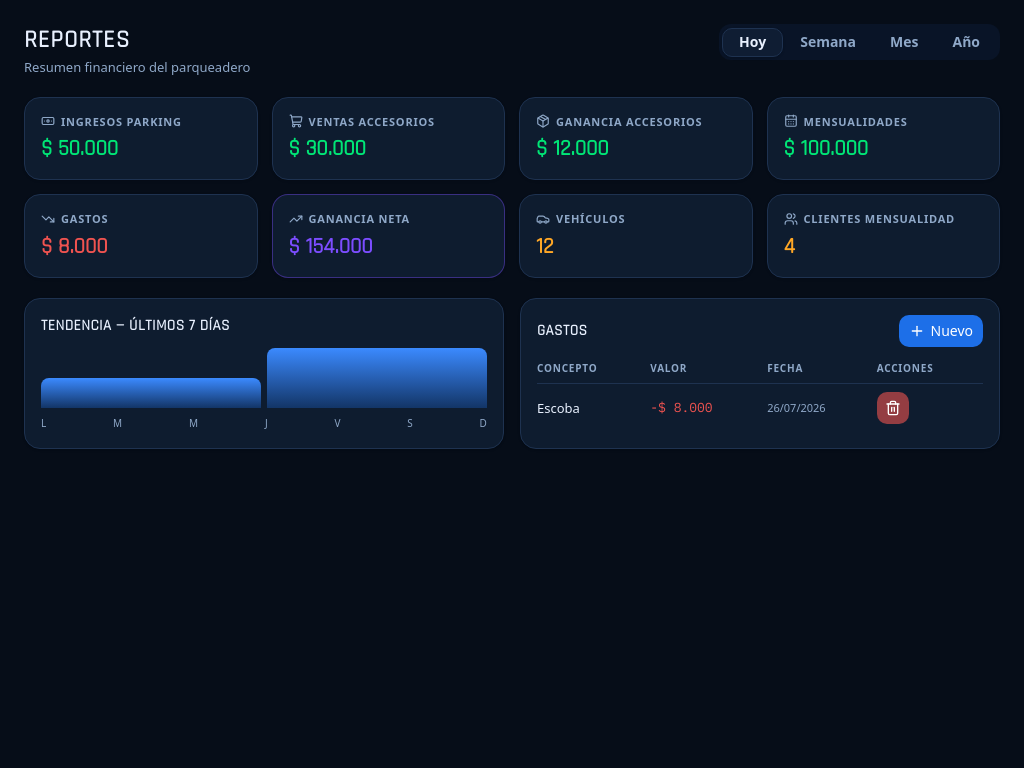
Test: registra un gasto nuevo con el valor en número y la fecha de hoy
Click the button "Nuevo" at (941, 331), box x1=898 y1=315 x2=983 y2=347
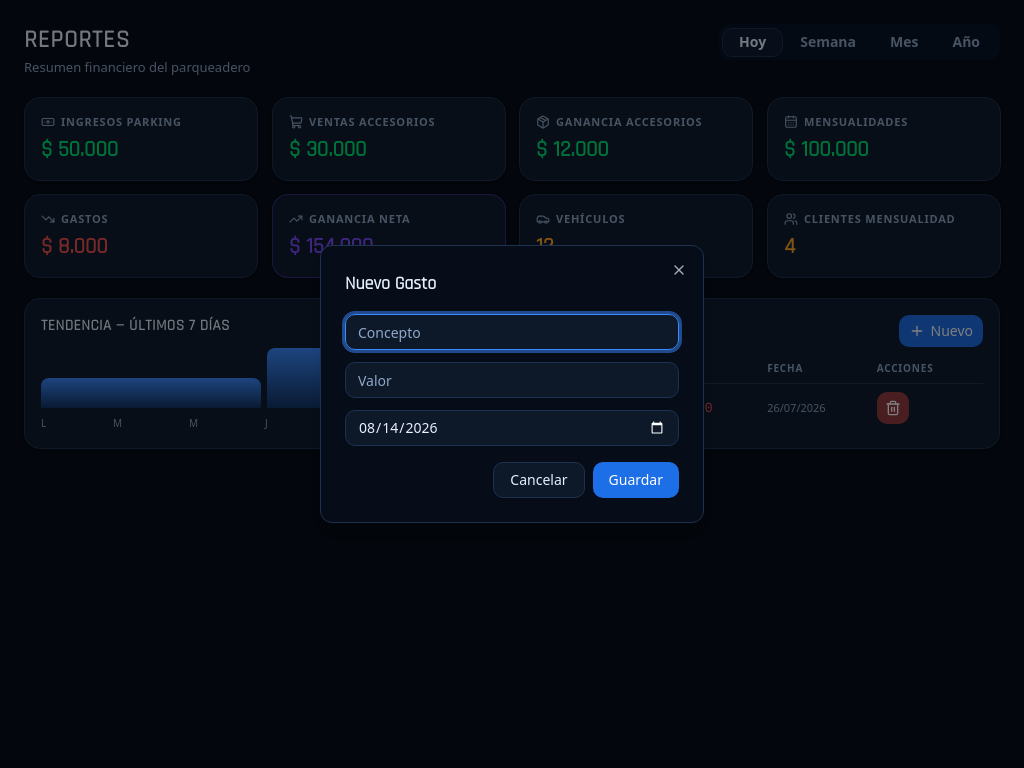
Type "Aseo" into the field labelled "Concepto" at (512, 332), box x1=345 y1=314 x2=679 y2=350
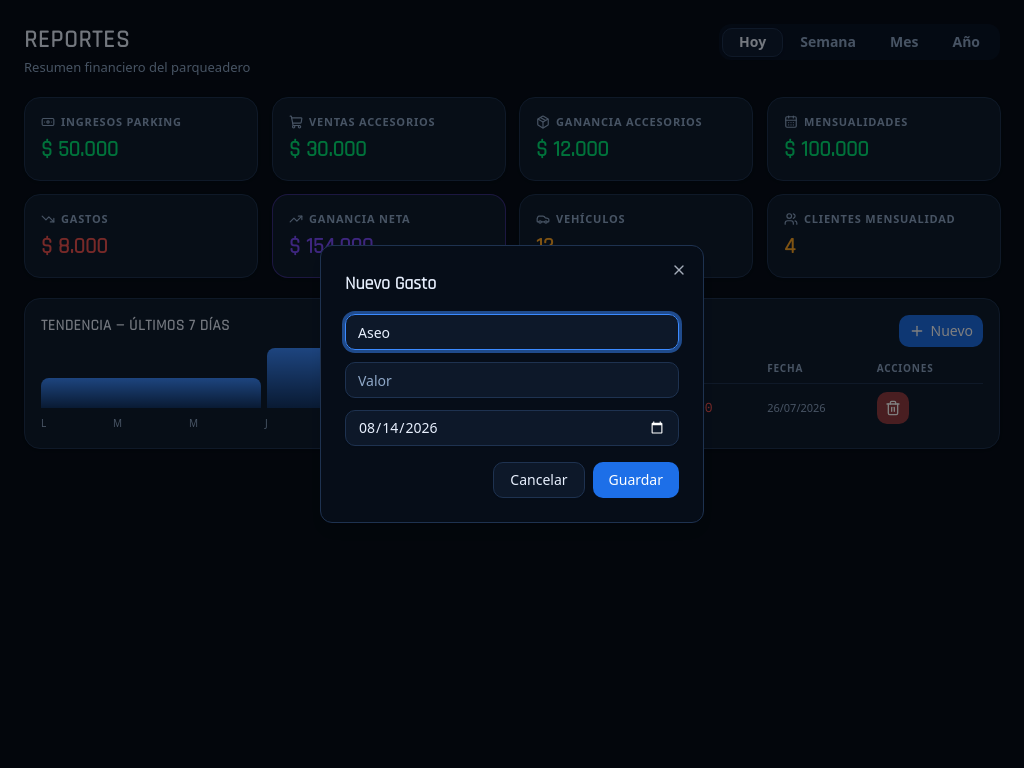
Type "5000" into the number field labelled "Valor" at (512, 380), box x1=345 y1=362 x2=679 y2=398
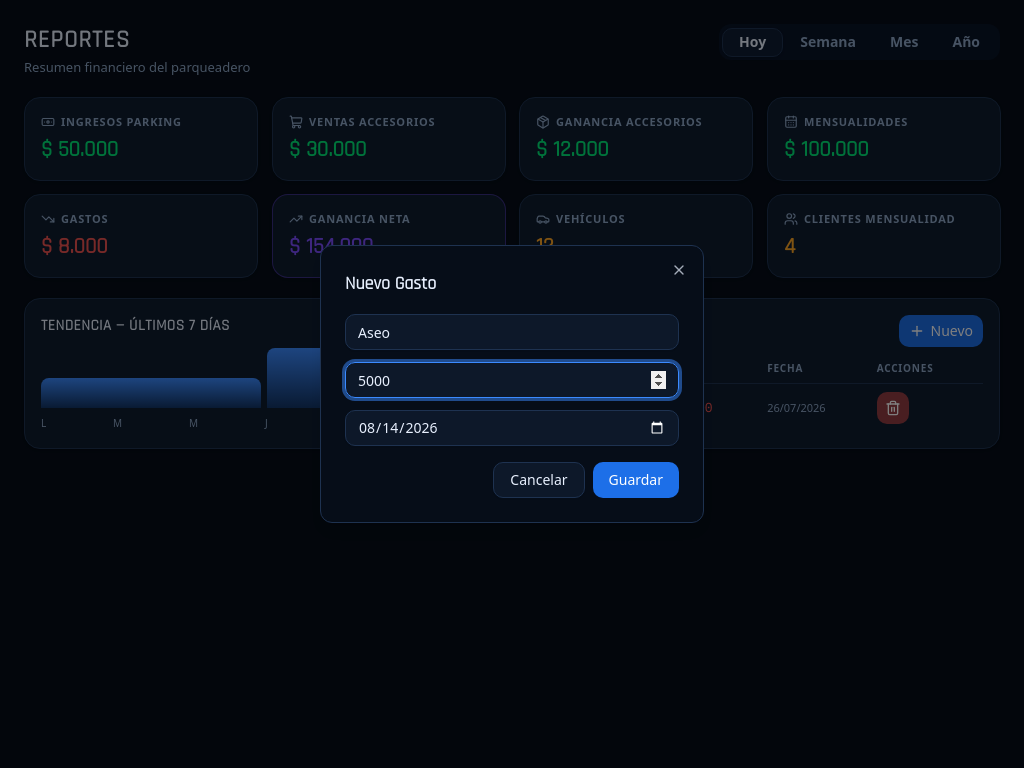
Click the button "Guardar" at (636, 480), box x1=592 y1=462 x2=679 y2=498
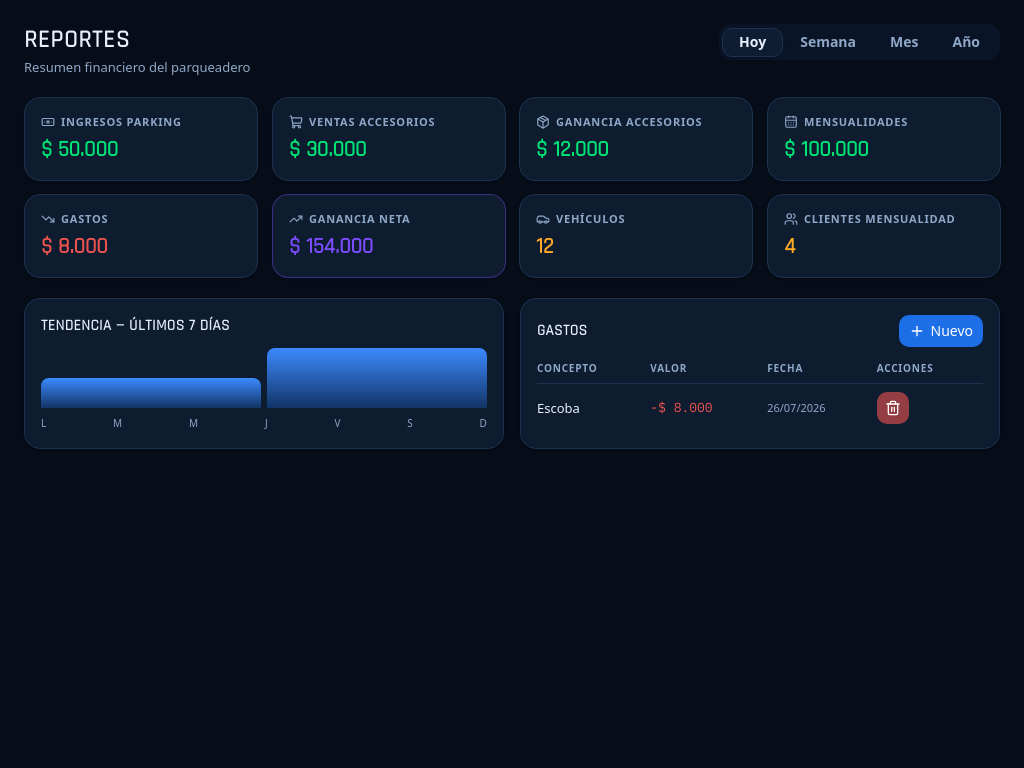
Now the heading "Nuevo Gasto" is gone
